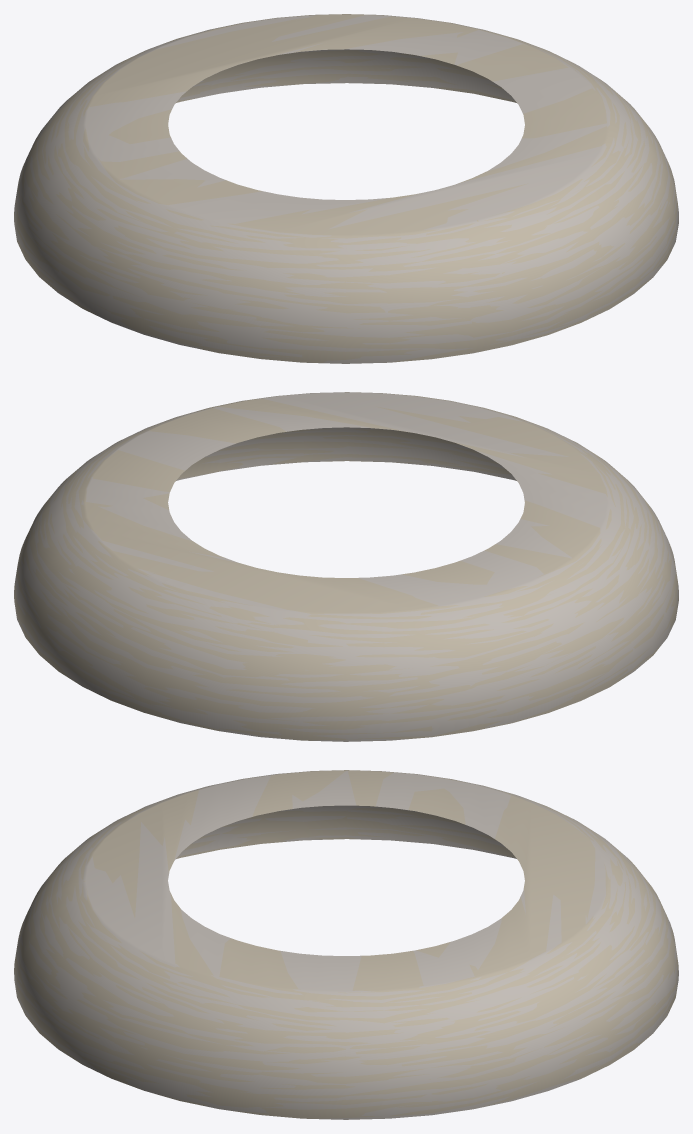
The model's file is original-11.obj.
3 renders of one model, top to bottom at view 1: azimuth 30°, elevation 25°; view 2: azimuth 150°, elevation 25°; view 3: azimuth 270°, elevation 25°, orthographic.
Visible parts, largest first — view 1: #ID298; view 2: #ID298; view 3: #ID298.
Part boxes in pixels (left/top/right/bottom): #ID298: left=14, top=14, right=678, bottom=363; #ID298: left=14, top=392, right=678, bottom=741; #ID298: left=14, top=770, right=678, bottom=1119.
Size of the model in its own units: 0.5585 by 0.0917 by 0.5585.
2 materials, 1 textured.
